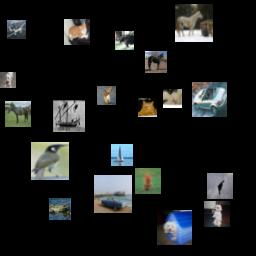airplane: (207, 173, 233, 199), (7, 20, 26, 39)
automobile: (94, 175, 132, 213), (192, 82, 227, 117)
bird: (31, 142, 69, 180), (97, 86, 116, 105)
cat: (64, 19, 90, 45), (138, 98, 157, 117), (163, 89, 182, 108)
deer: (135, 168, 161, 194), (115, 31, 134, 50)
dog: (157, 210, 192, 245), (204, 201, 230, 227), (0, 72, 16, 88)
frog: (49, 198, 71, 220)
ship: (53, 100, 85, 132), (111, 144, 133, 166)
